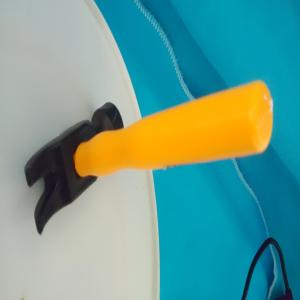martelo: (20, 75, 276, 239)
